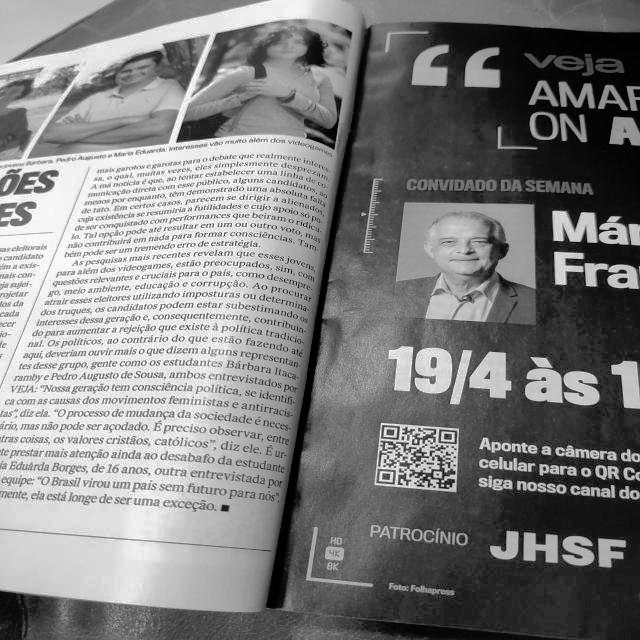qr_code: (376, 425, 457, 489)
